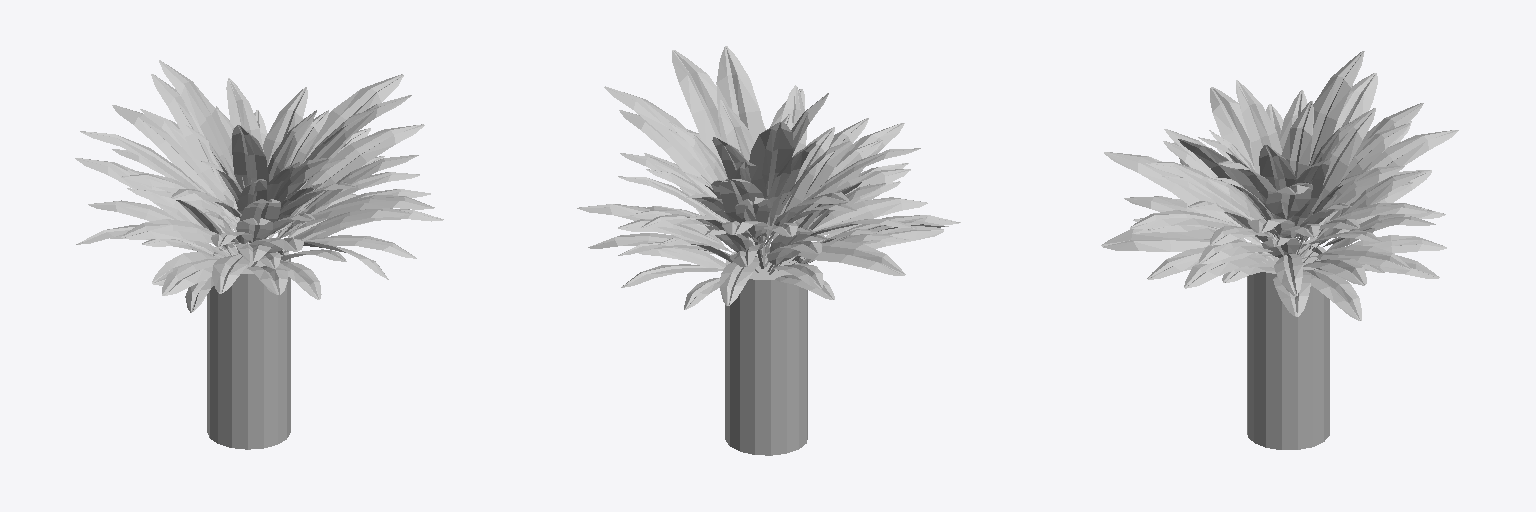
File: plant 1.obj
3 views of the same model, side by side, from view 1: azimuth 30°, elevation 25°; view 2: azimuth 150°, elevation 25°; view 3: azimuth 270°, elevation 25° (orthographic).
Parts seen in each view (by area): view 1: plant_1; view 2: plant_1; view 3: plant_1.
Part boxes in pixels (left/top/right/bottom): plant_1: left=75, top=60, right=443, bottom=449; plant_1: left=577, top=46, right=960, bottom=455; plant_1: left=1101, top=51, right=1458, bottom=449.
Size of the model in its own units: 30.62 by 32.93 by 29.91.